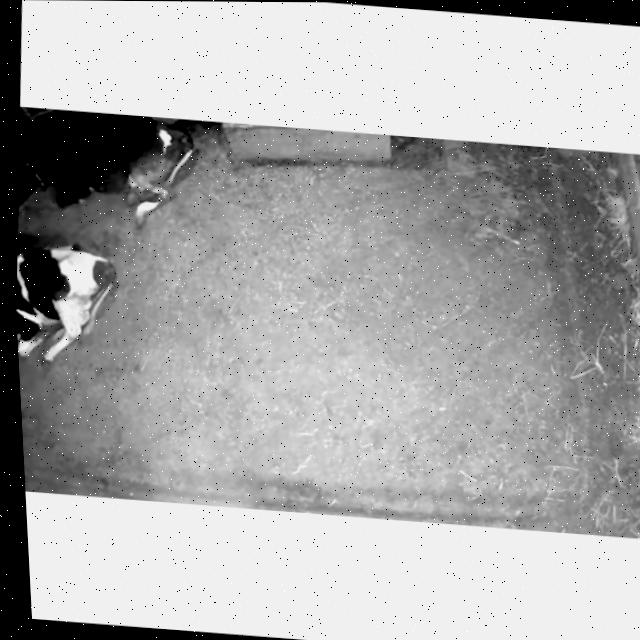lay: (11, 106, 206, 239), (12, 227, 139, 421)
